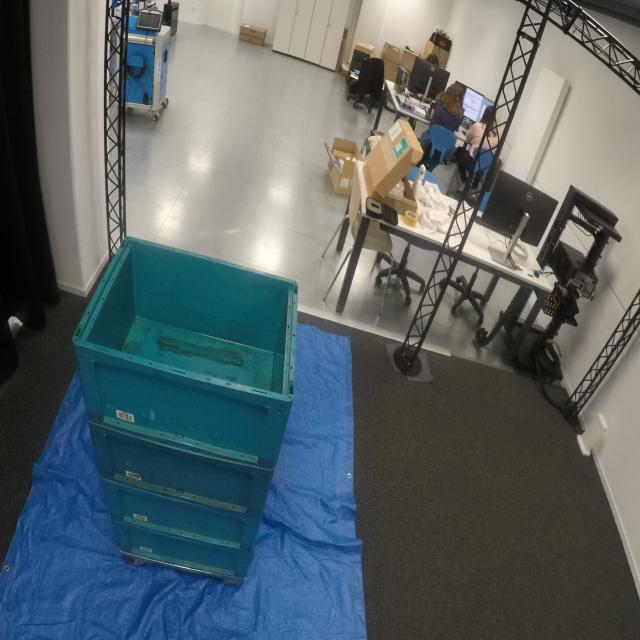BoxB4: (70, 231, 300, 468), (86, 418, 274, 520), (102, 476, 261, 554), (110, 517, 255, 586)
